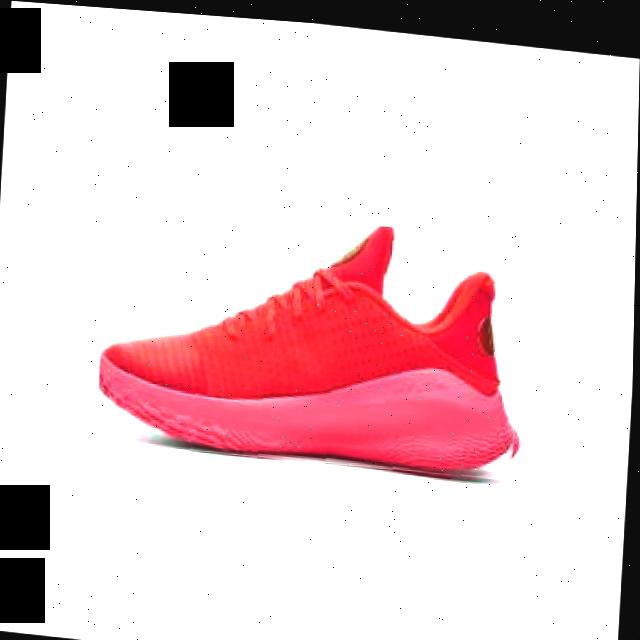shoe: (97, 194, 532, 480)
